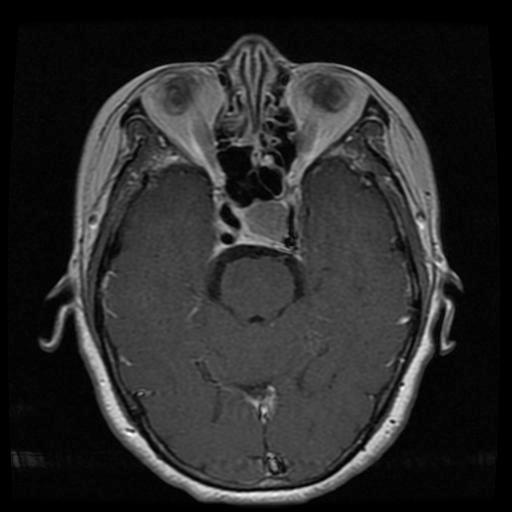Tumour-Pituitary: (207, 196, 299, 260)
